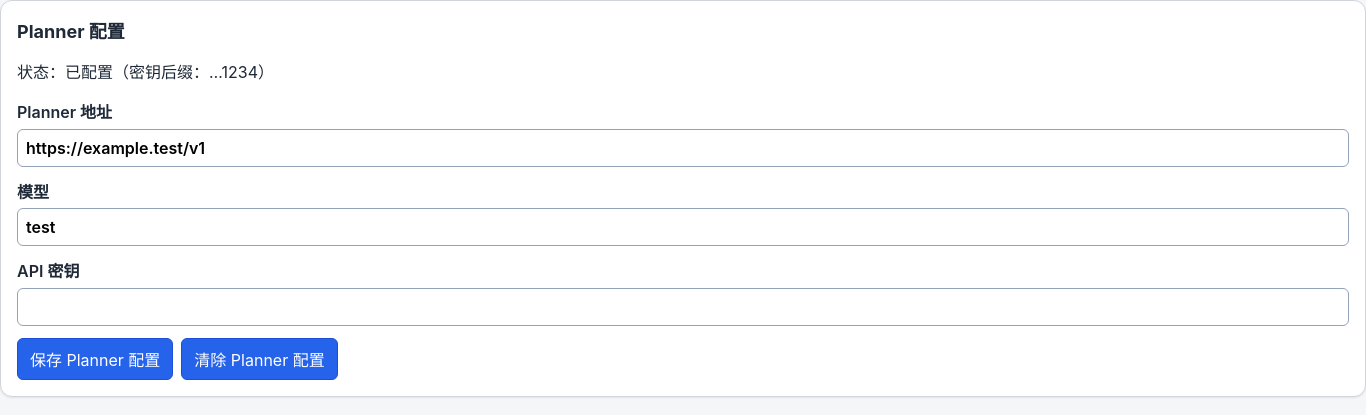
it: PlannerSettings › disables every Planner control while 保存 Planner 配置 is pending
Step 1. Click the button "保存 Planner 配置" → (95, 359), box 17,338 -> 173,380
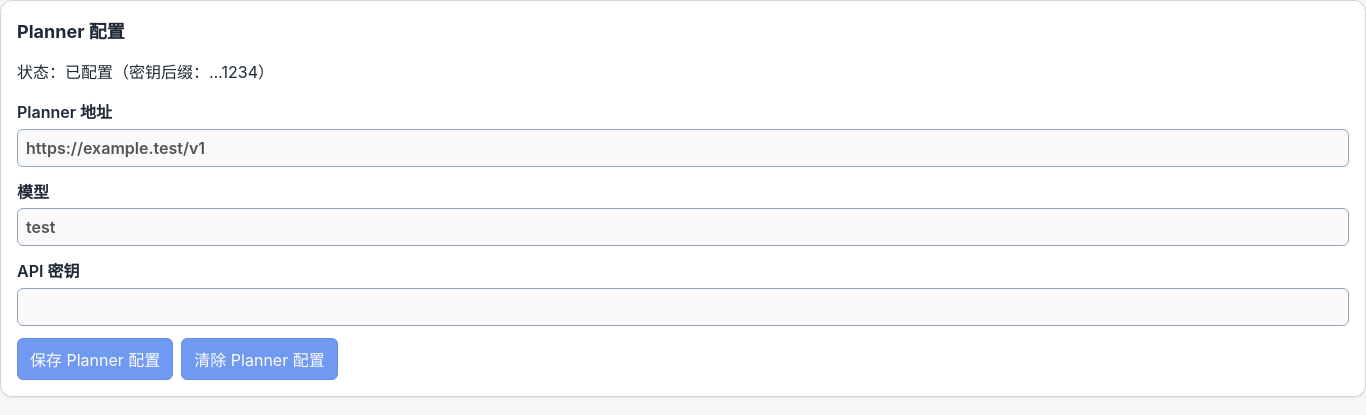
Result: the field labelled "Planner 地址" is disabled at 17,129 -> 1349,167
Result: the field labelled "模型" is disabled at 17,208 -> 1349,246
Result: the button "保存 Planner 配置" is disabled at 17,338 -> 173,380
